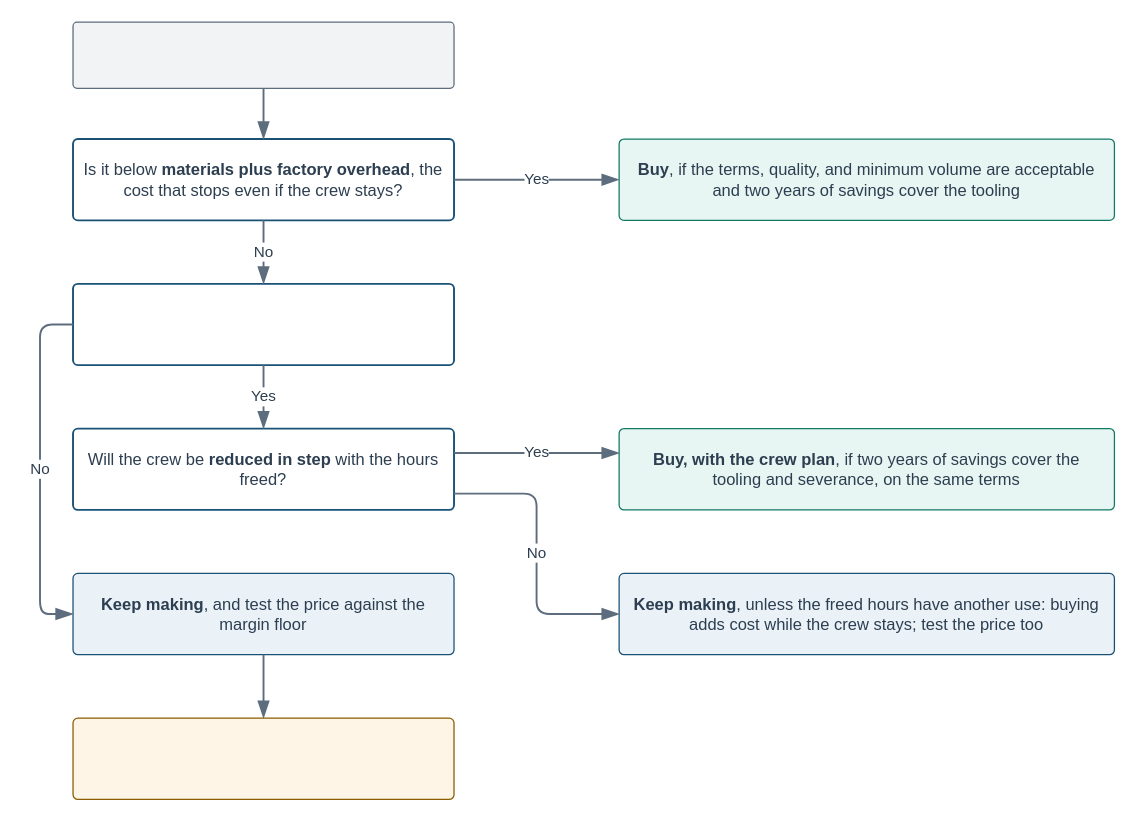
The diagram is 1137 pixels wide and 824 high, and some of its shapes have lost their labels. The centre of each missing label's shape, as x and y in pixels:
Below the floor? Reprice, and weigh the volume the increase could cost: the point at 263,758
Delivered quote price plus inbound freight, per unit: the point at 263,54
Is it below that cost plus the crew time the family uses?: the point at 263,324
